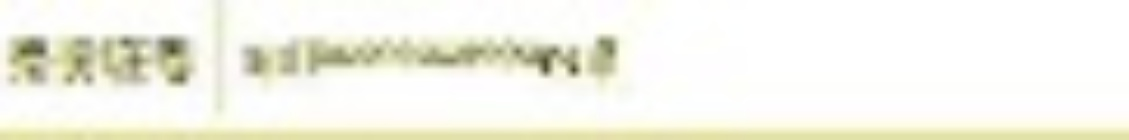EditText: (1, 1, 1128, 139)
